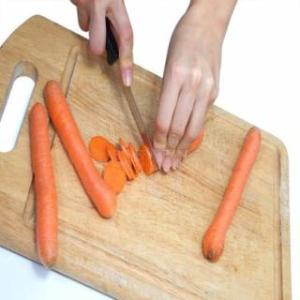carrot: (45, 78, 119, 222), (201, 126, 263, 264), (30, 102, 60, 272)
